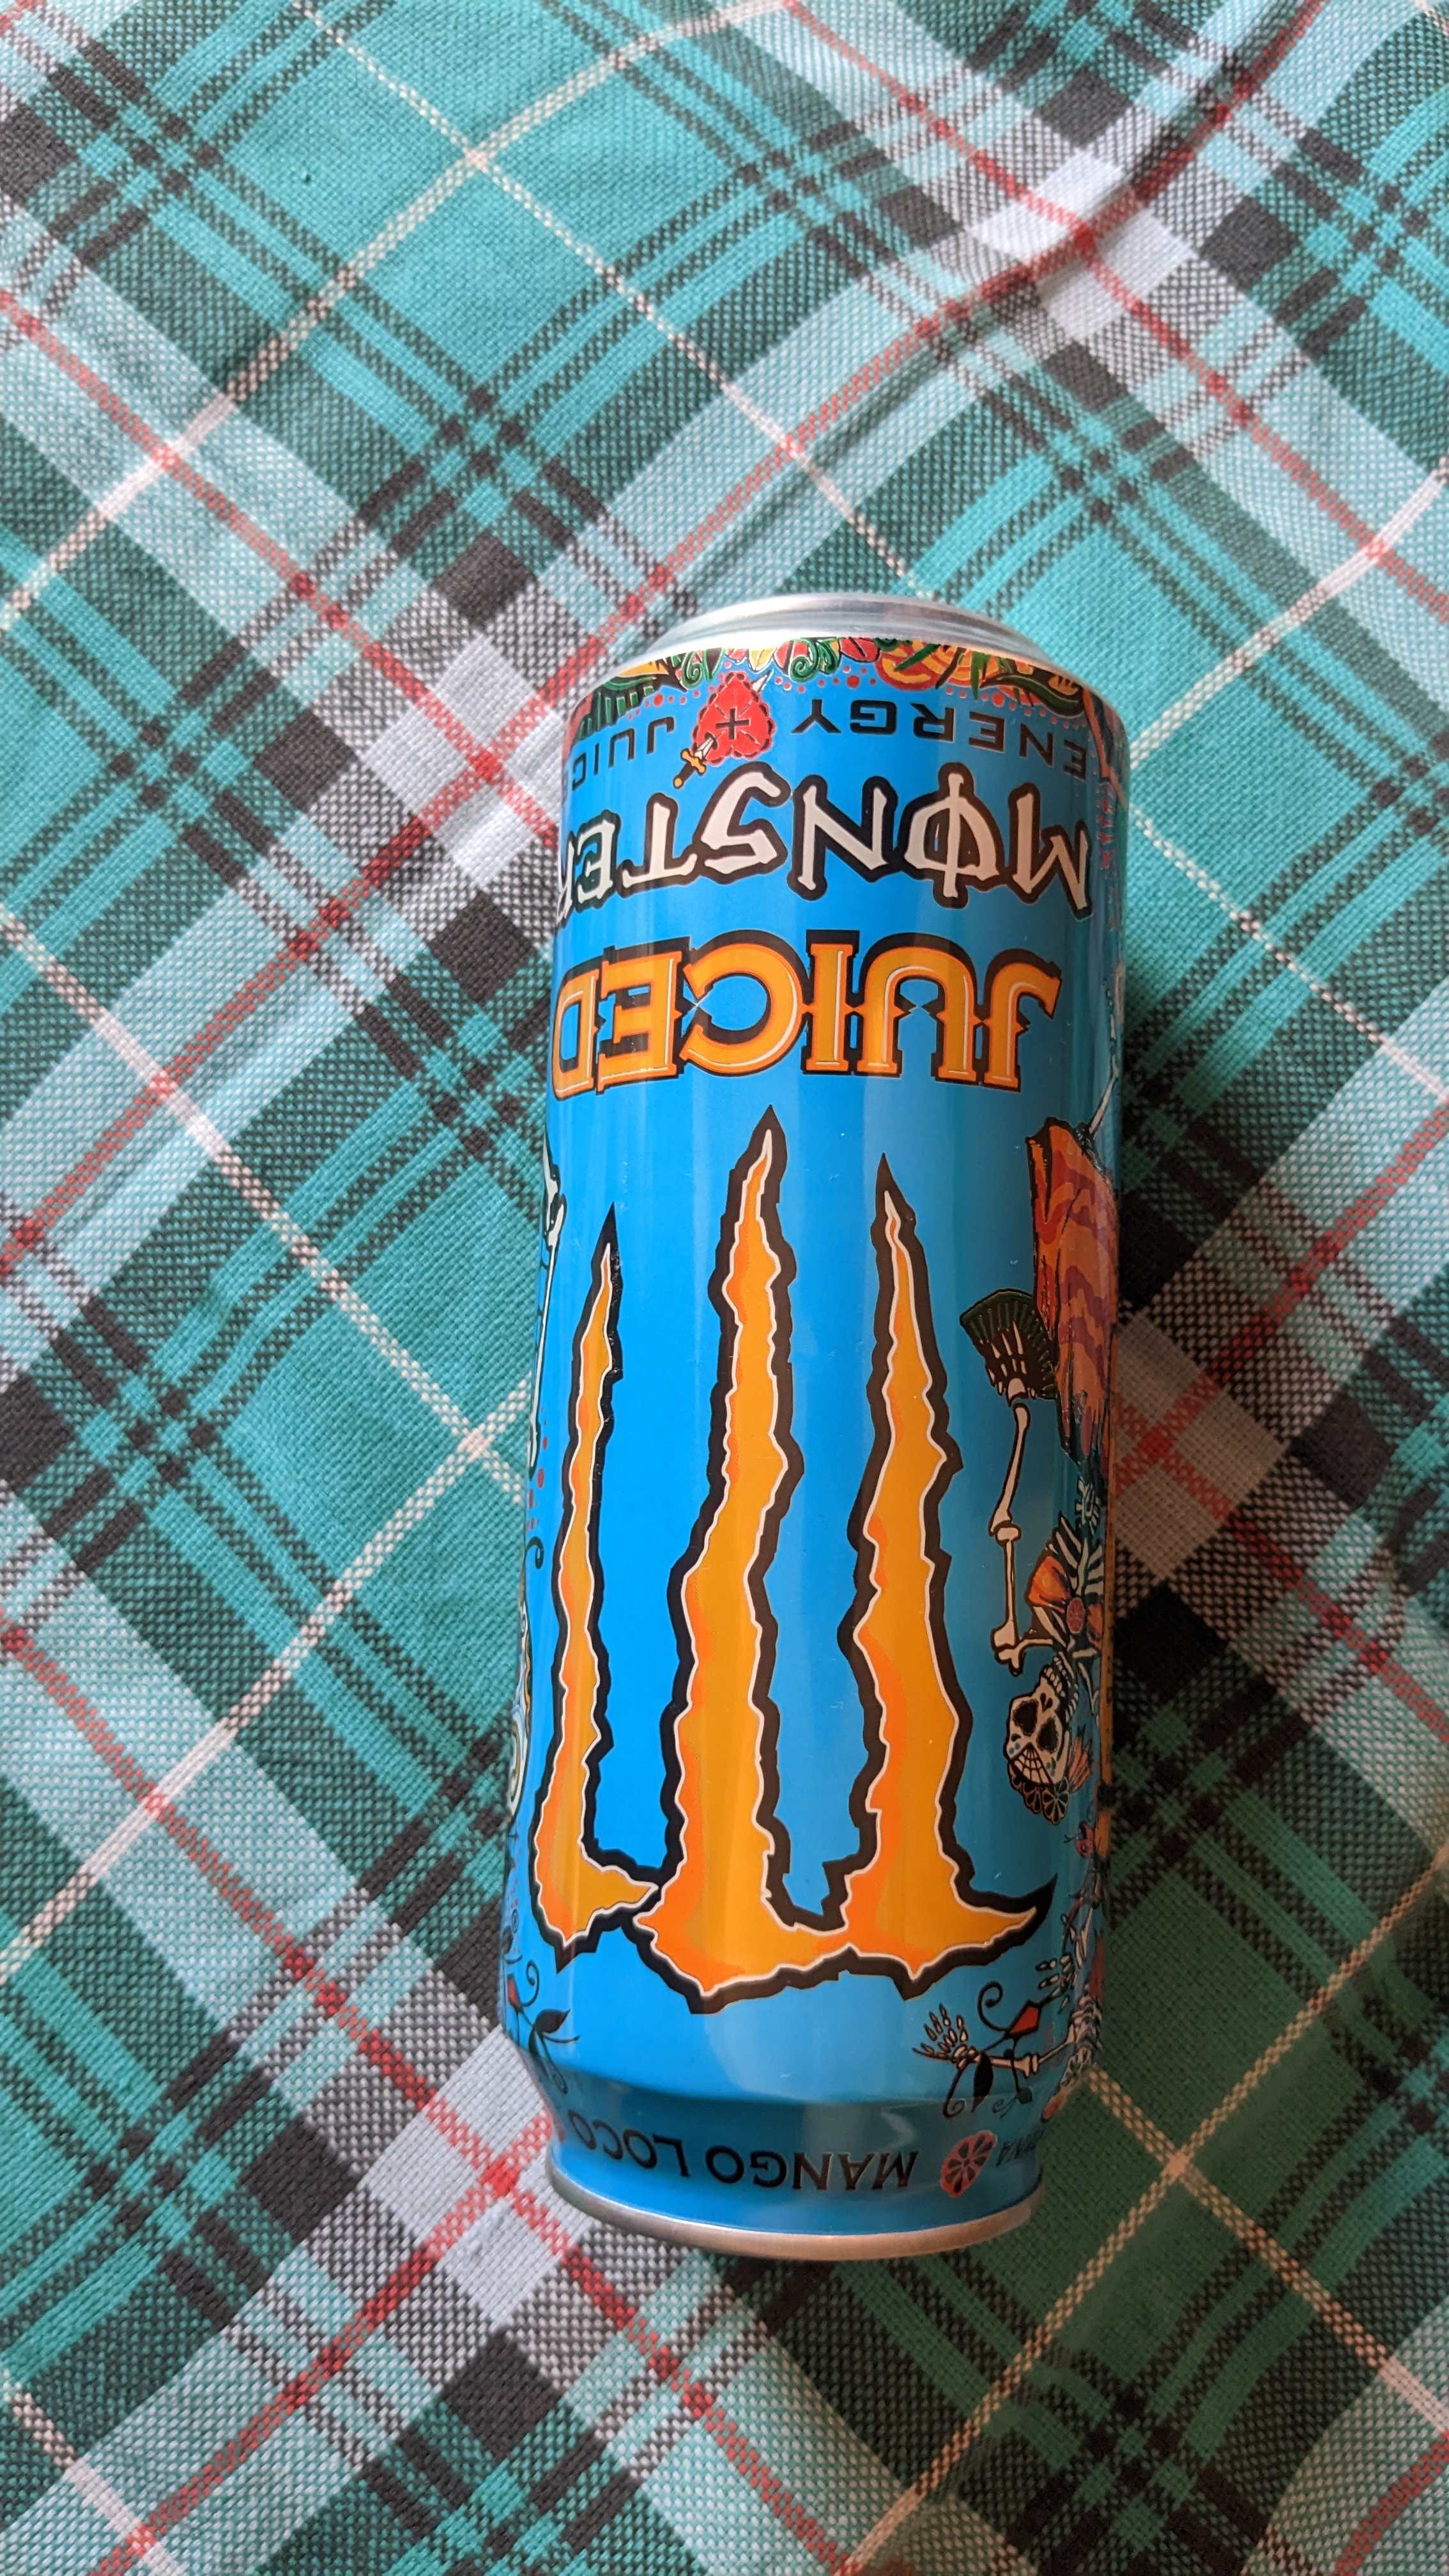monster: (504, 596, 1143, 2273)
